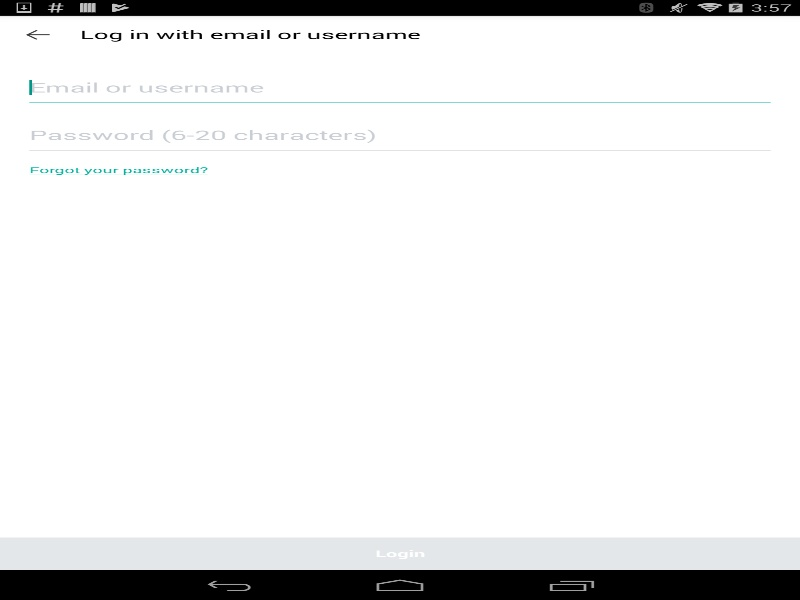Input: (29, 79, 770, 95), (29, 127, 770, 142)
